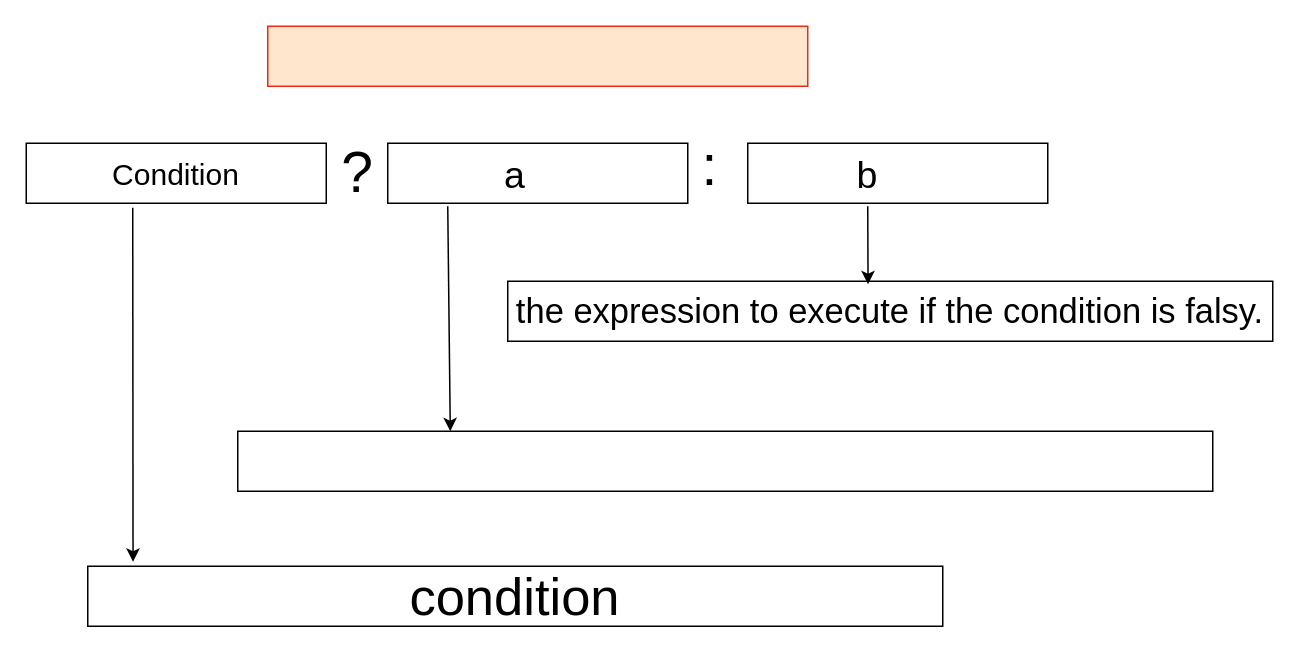
The diagram is 1299 pixels wide and 654 high, and some of its shapes have lost their labels. Each missing label, with the box of its shape:
expression to execute if the condition is truthy: (236, 430, 1213, 491)
TERNARY OPERATOR IN JAVASCRIPT: (266, 25, 808, 86)
